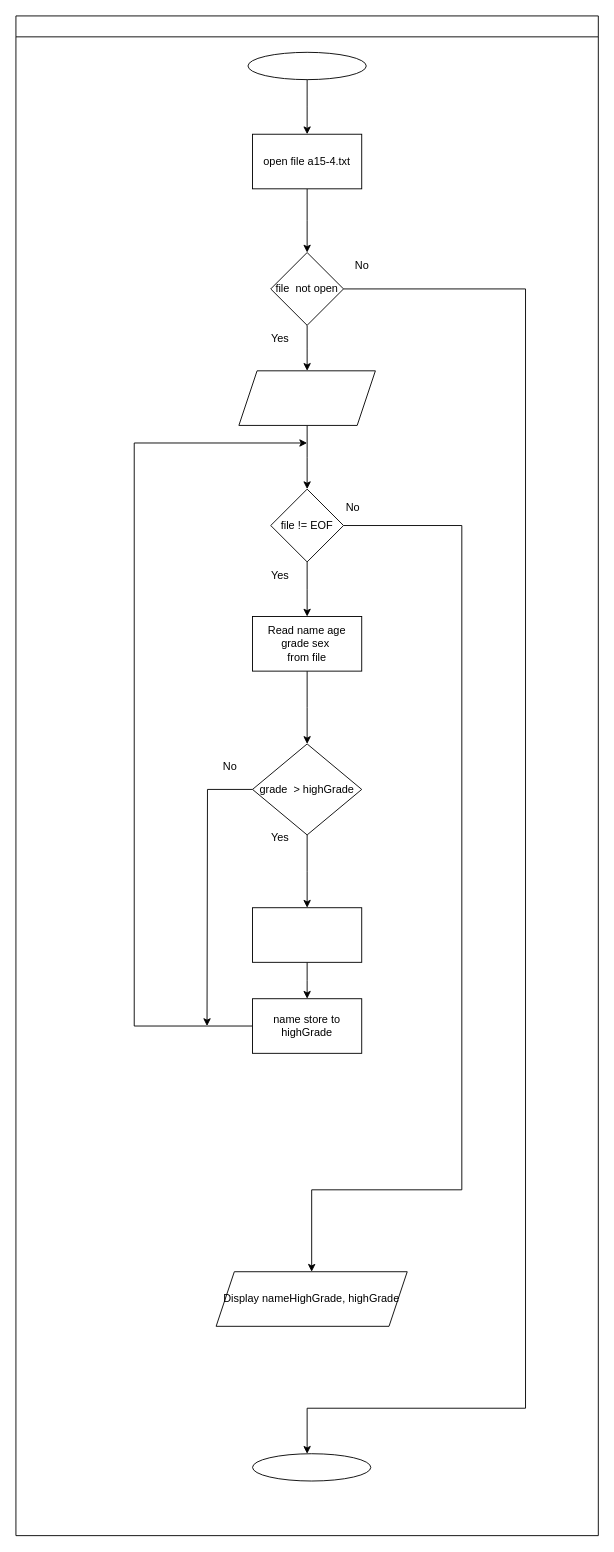
Some shapes in this 614 by 1552 pixel diagram are drawn without their labels. Each missing label, with the centre of its shape:
Display can't open file: (x=306, y=397)
End: (x=311, y=1467)
grade store to highGrade variable: (x=307, y=934)
Start: (x=306, y=65)
